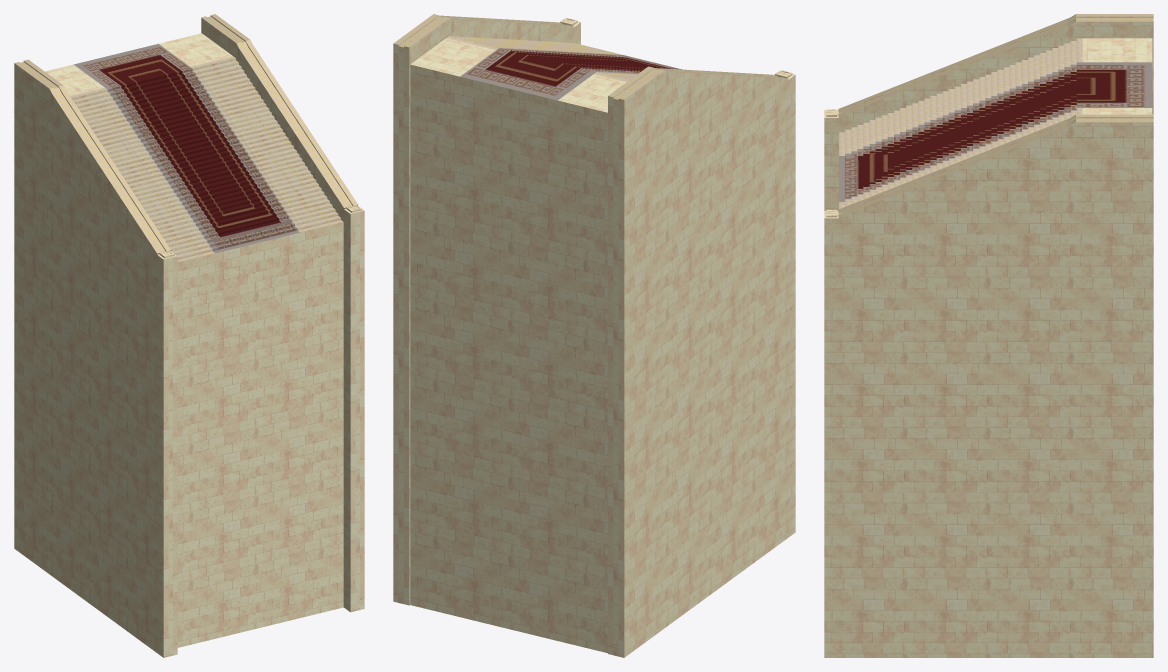
File: SM_stairs_medium_carpet.glb
3 views of the same model, side by side, from view 1: azimuth 30°, elevation 25°; view 2: azimuth 150°, elevation 25°; view 3: azimuth 270°, elevation 25° (orthographic). The views are drawn at different scales.
Visible parts, largest first — view 1: SM_stairs_medium_carpet; view 2: SM_stairs_medium_carpet; view 3: SM_stairs_medium_carpet.
Part boxes in pixels (left/top/right/bottom): SM_stairs_medium_carpet: left=14, top=14, right=364, bottom=657; SM_stairs_medium_carpet: left=393, top=14, right=795, bottom=657; SM_stairs_medium_carpet: left=824, top=14, right=1153, bottom=657.
Bounding box in the file's own units: 12.34 × 28.49 × 15.88.
3 materials, 3 textured.
